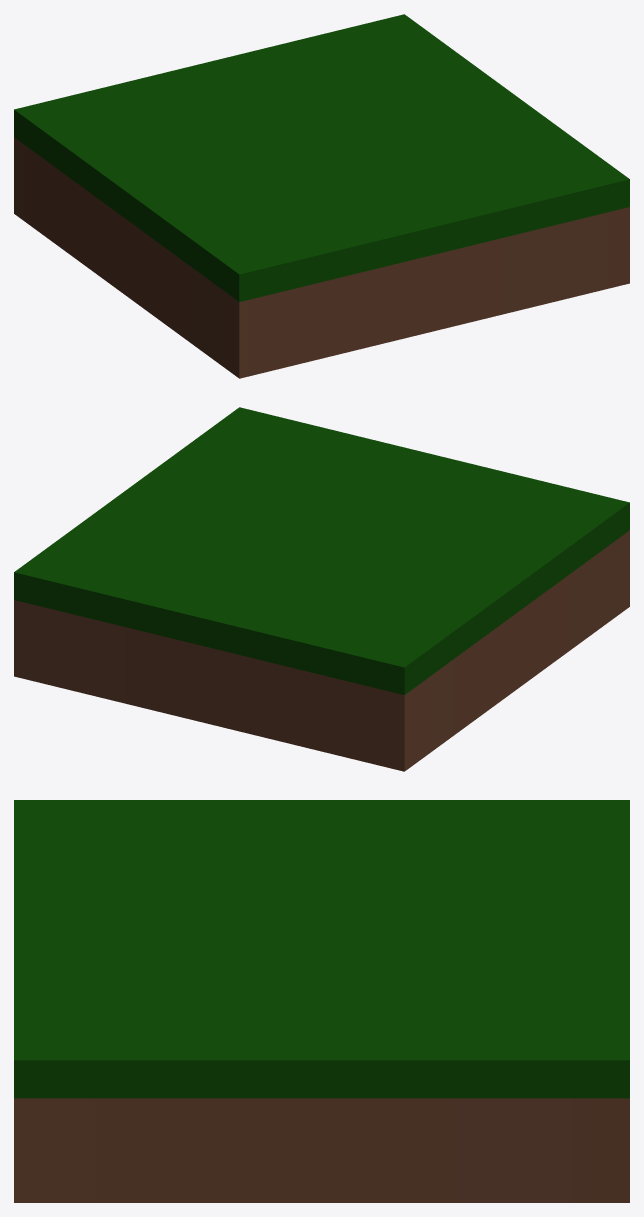
The picture shows the model from 3 angles, top to bottom: view 1: azimuth 30°, elevation 25°; view 2: azimuth 150°, elevation 25°; view 3: azimuth 270°, elevation 25°; orthographic projection. The views are drawn at different scales.
Visible parts, largest first — view 1: Cube.348; view 2: Cube.348; view 3: Cube.348.
Boxes of the visible parts, left/top/right/bottom form: Cube.348: left=14, top=14, right=629, bottom=378; Cube.348: left=14, top=407, right=629, bottom=771; Cube.348: left=14, top=800, right=629, bottom=1202.
Size of the model in its own units: 148 by 37.78 by 148.
Materials: 1 (1 with a texture image).
